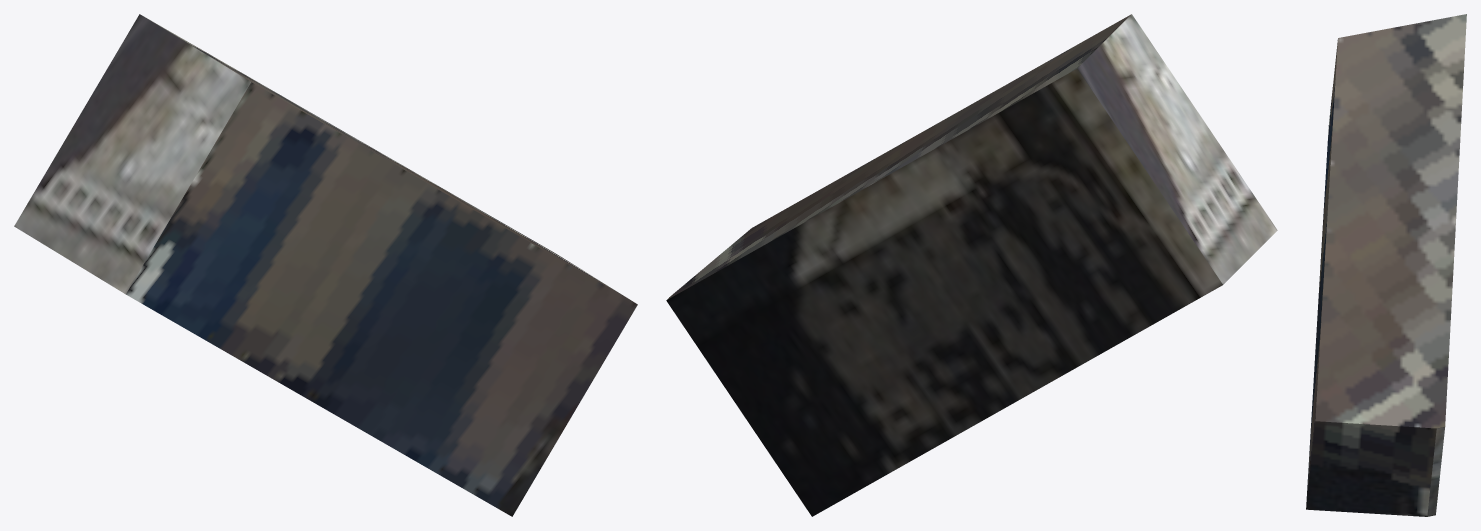
3 views of the same model, side by side, from view 1: azimuth 30°, elevation 25°; view 2: azimuth 150°, elevation 25°; view 3: azimuth 270°, elevation 25° (orthographic). The views are drawn at different scales.
Parts seen in each view (by area): view 1: BAG_0599100010042503; view 2: BAG_0599100010042503; view 3: BAG_0599100010042503 (×2).
Part boxes in pixels (x1,y1,x2,y2): BAG_0599100010042503: [14, 14, 637, 516]; BAG_0599100010042503: [666, 14, 1277, 516]; BAG_0599100010042503 (×2): [1306, 14, 1466, 516].
Size of the model in its own units: 6.19 by 5.57 by 2.04.
Materials: 2 (2 with a texture image).
